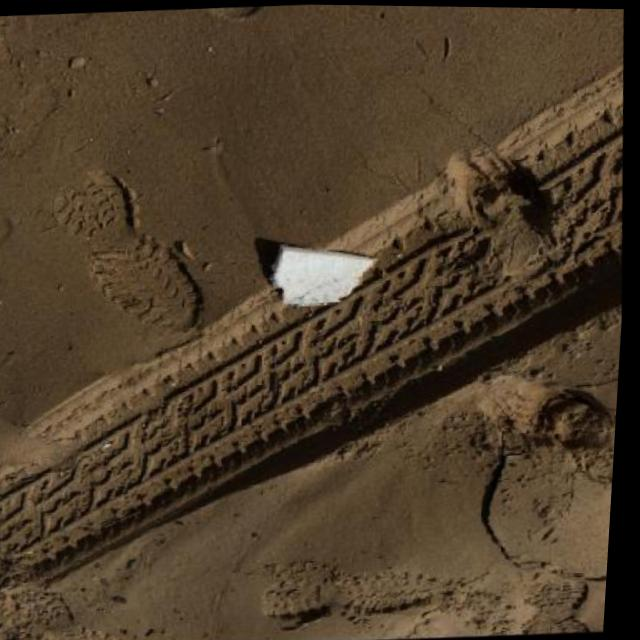foam: (267, 242, 379, 311)
